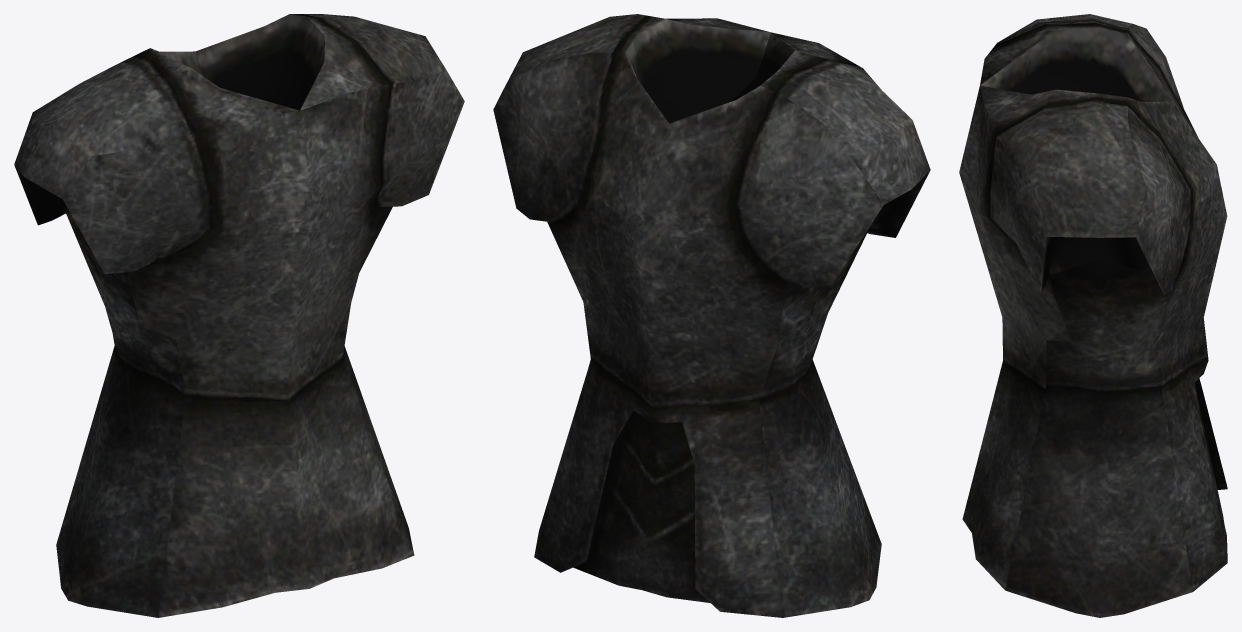
The model's file is armour_nice_breastplate.dae.
3 views of the same model, side by side, from view 1: azimuth 30°, elevation 25°; view 2: azimuth 150°, elevation 25°; view 3: azimuth 270°, elevation 25° (orthographic). The views are drawn at different scales.
Parts seen in each view (by area): view 1: Scene_Root; view 2: Scene_Root; view 3: Scene_Root.
Boxes of the visible parts, box(x1,y1,x2,y2) form: Scene_Root: box(14, 14, 464, 617); Scene_Root: box(493, 14, 930, 617); Scene_Root: box(959, 14, 1227, 617).
Bounding box in the file's own units: 0.782 × 0.4692 × 0.9314.
